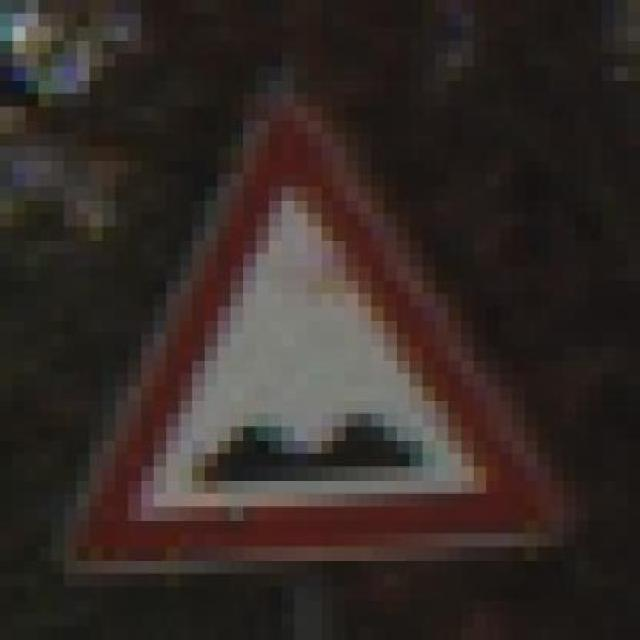Uneven Road: (52, 67, 576, 587)
